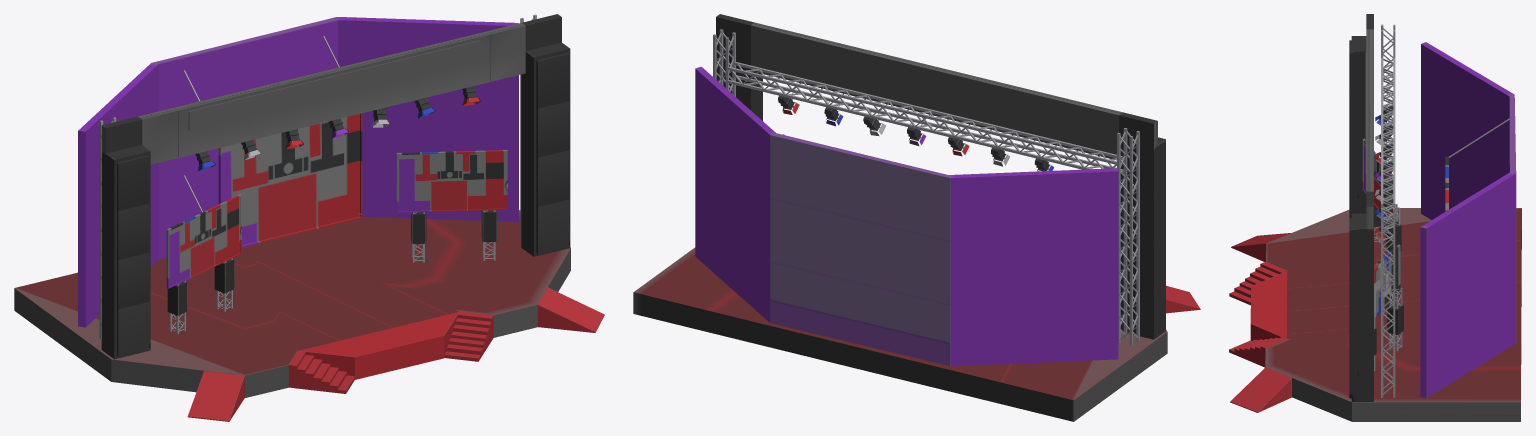
The model's file is concert_stage.obj.
3 views of the same model, side by side, from view 1: azimuth 30°, elevation 25°; view 2: azimuth 150°, elevation 25°; view 3: azimuth 270°, elevation 25° (orthographic). The views are drawn at different scales.
Parts seen in each view (by area): view 1: stage, screen_Big, screen1, screen2; view 2: stage; view 3: stage, screen1, screen2.
Part boxes in pixels (x1,y1,x2,y2): stage: (14,14,604,421); screen_Big: (218,113,362,247); screen1: (396,150,507,212); screen2: (166,194,241,288); stage: (633,14,1200,421); stage: (1229,14,1521,421); screen1: (1374,244,1400,316); screen2: (1362,138,1393,228).
Bounding box in the file's own units: 67.51 × 34.74 × 42.99.
